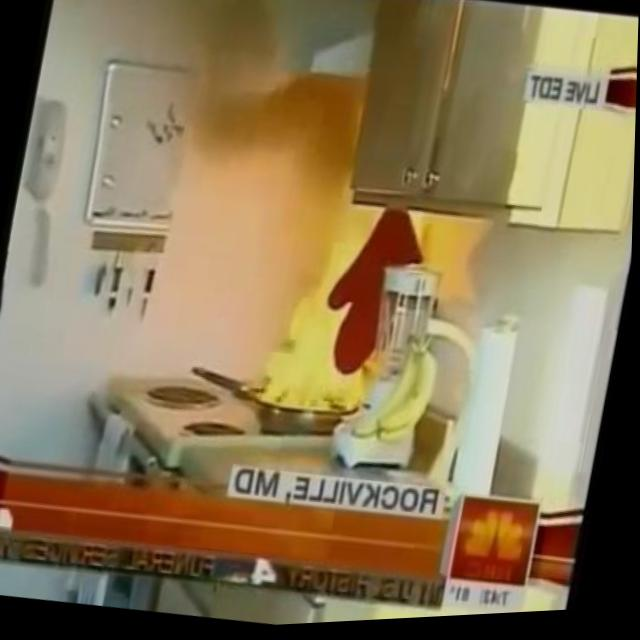fire: (255, 194, 426, 434)
